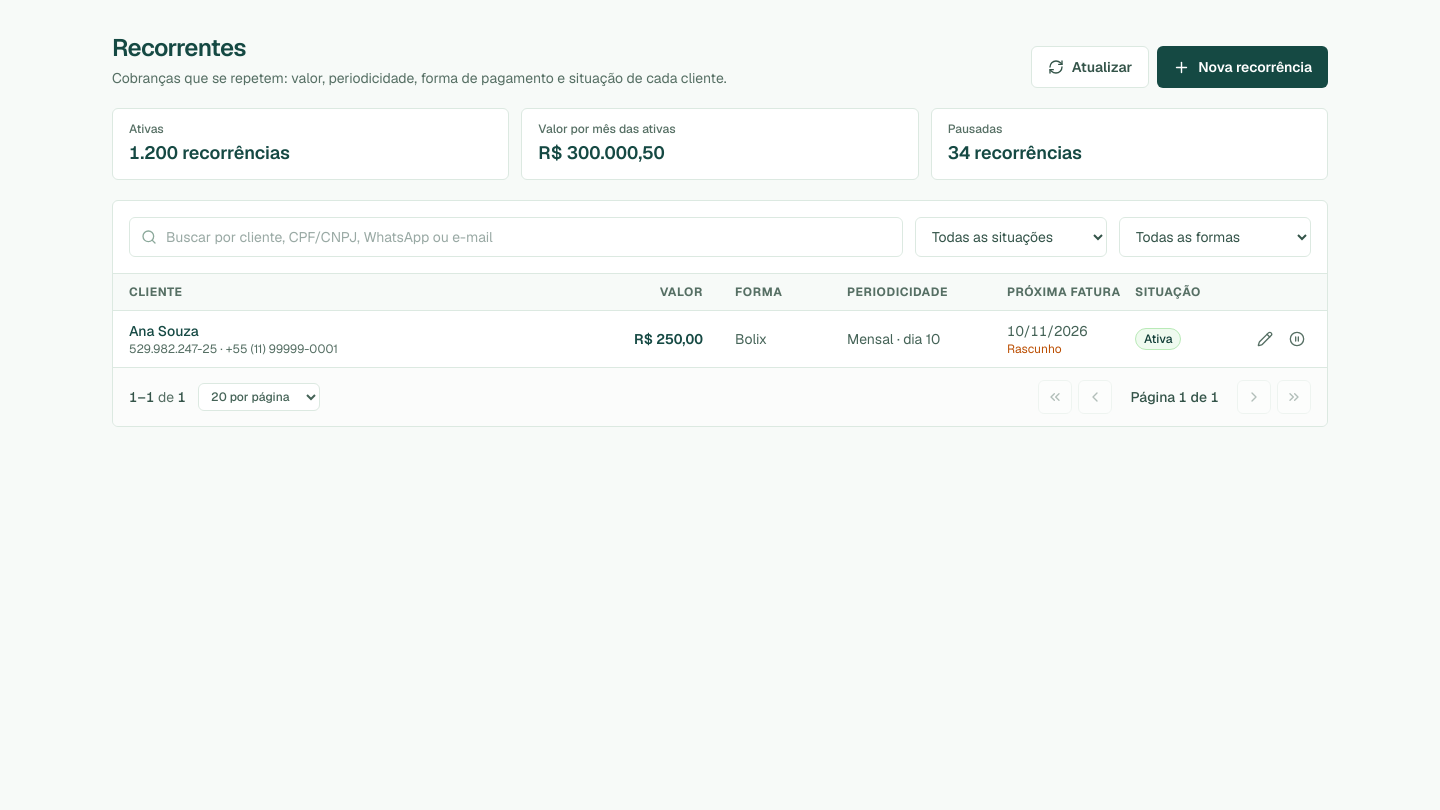
RecorrentesPage › marks a generated draft as not charged yet, also when pausing
Expected: the text "10/11/2026" is shown, [1007,322,1088,340]
What coordinates should you click on to do the following:
click the button named "Pausar recorrência de Ana Souza"
I would click on:
 (1297, 339)
Its box is [1283,325,1311,353].
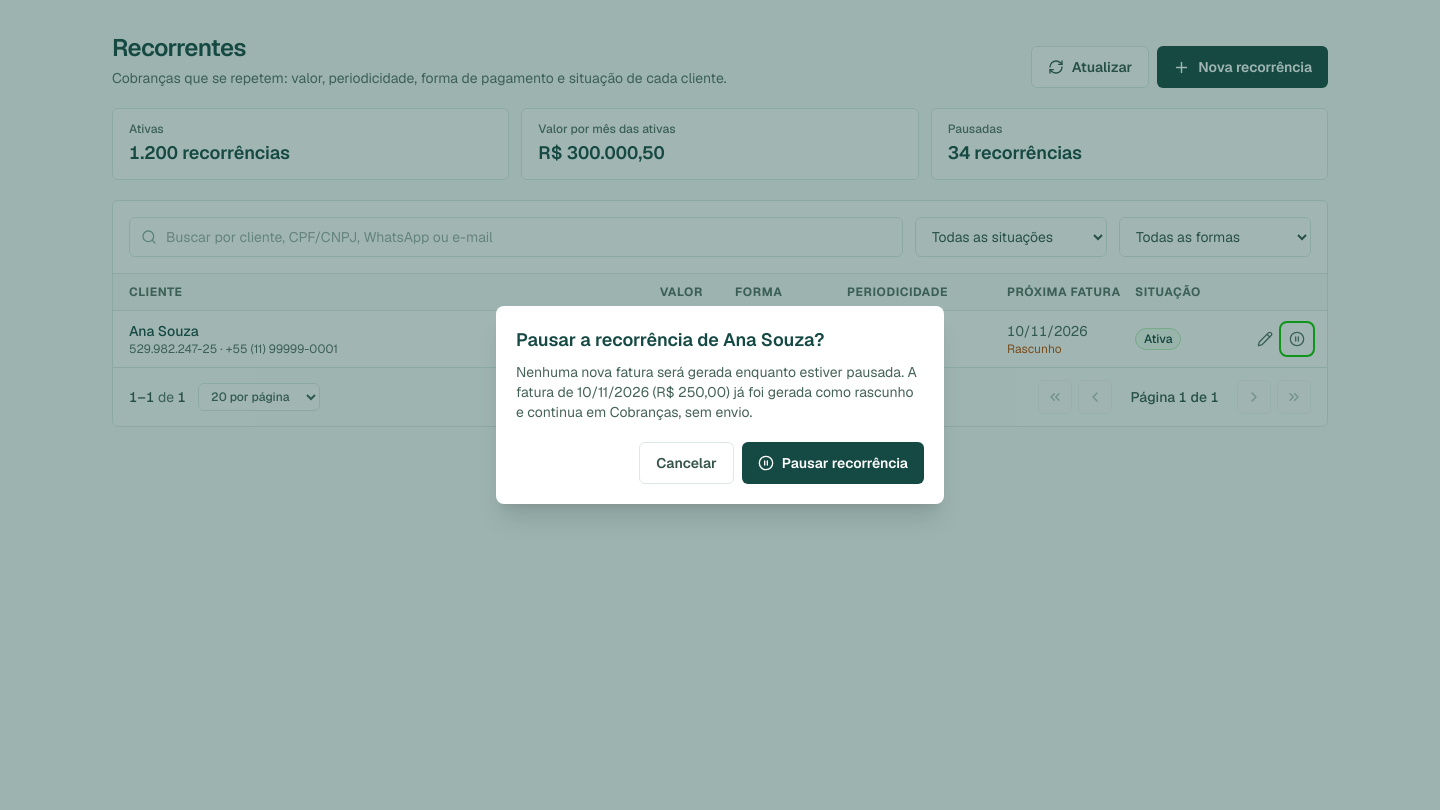
Expected: the dialog shows "A fatura de 10/11/2026 (R$ 250,00) já foi gerada como rascunho e continua em Cobranças, sem envio.", [516,363,917,421]
